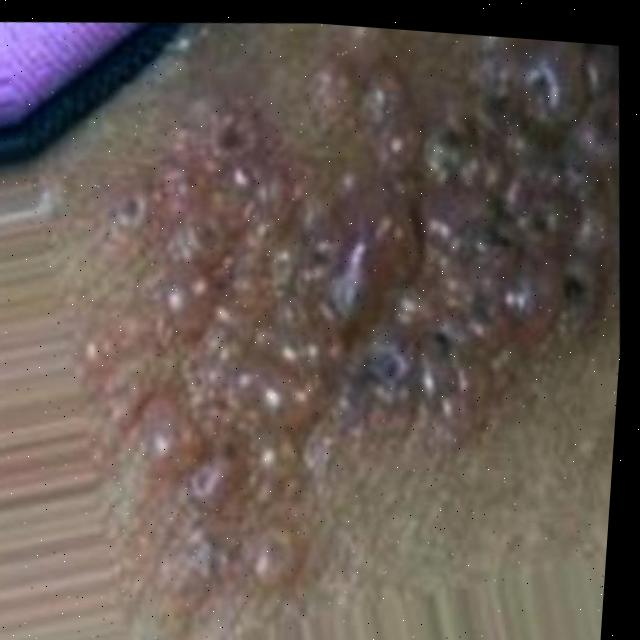Shingles: (110, 11, 640, 593)
